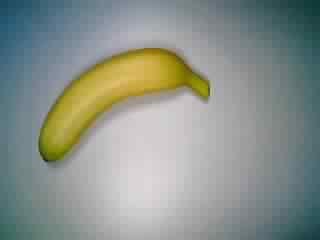banana: (35, 42, 216, 167)
